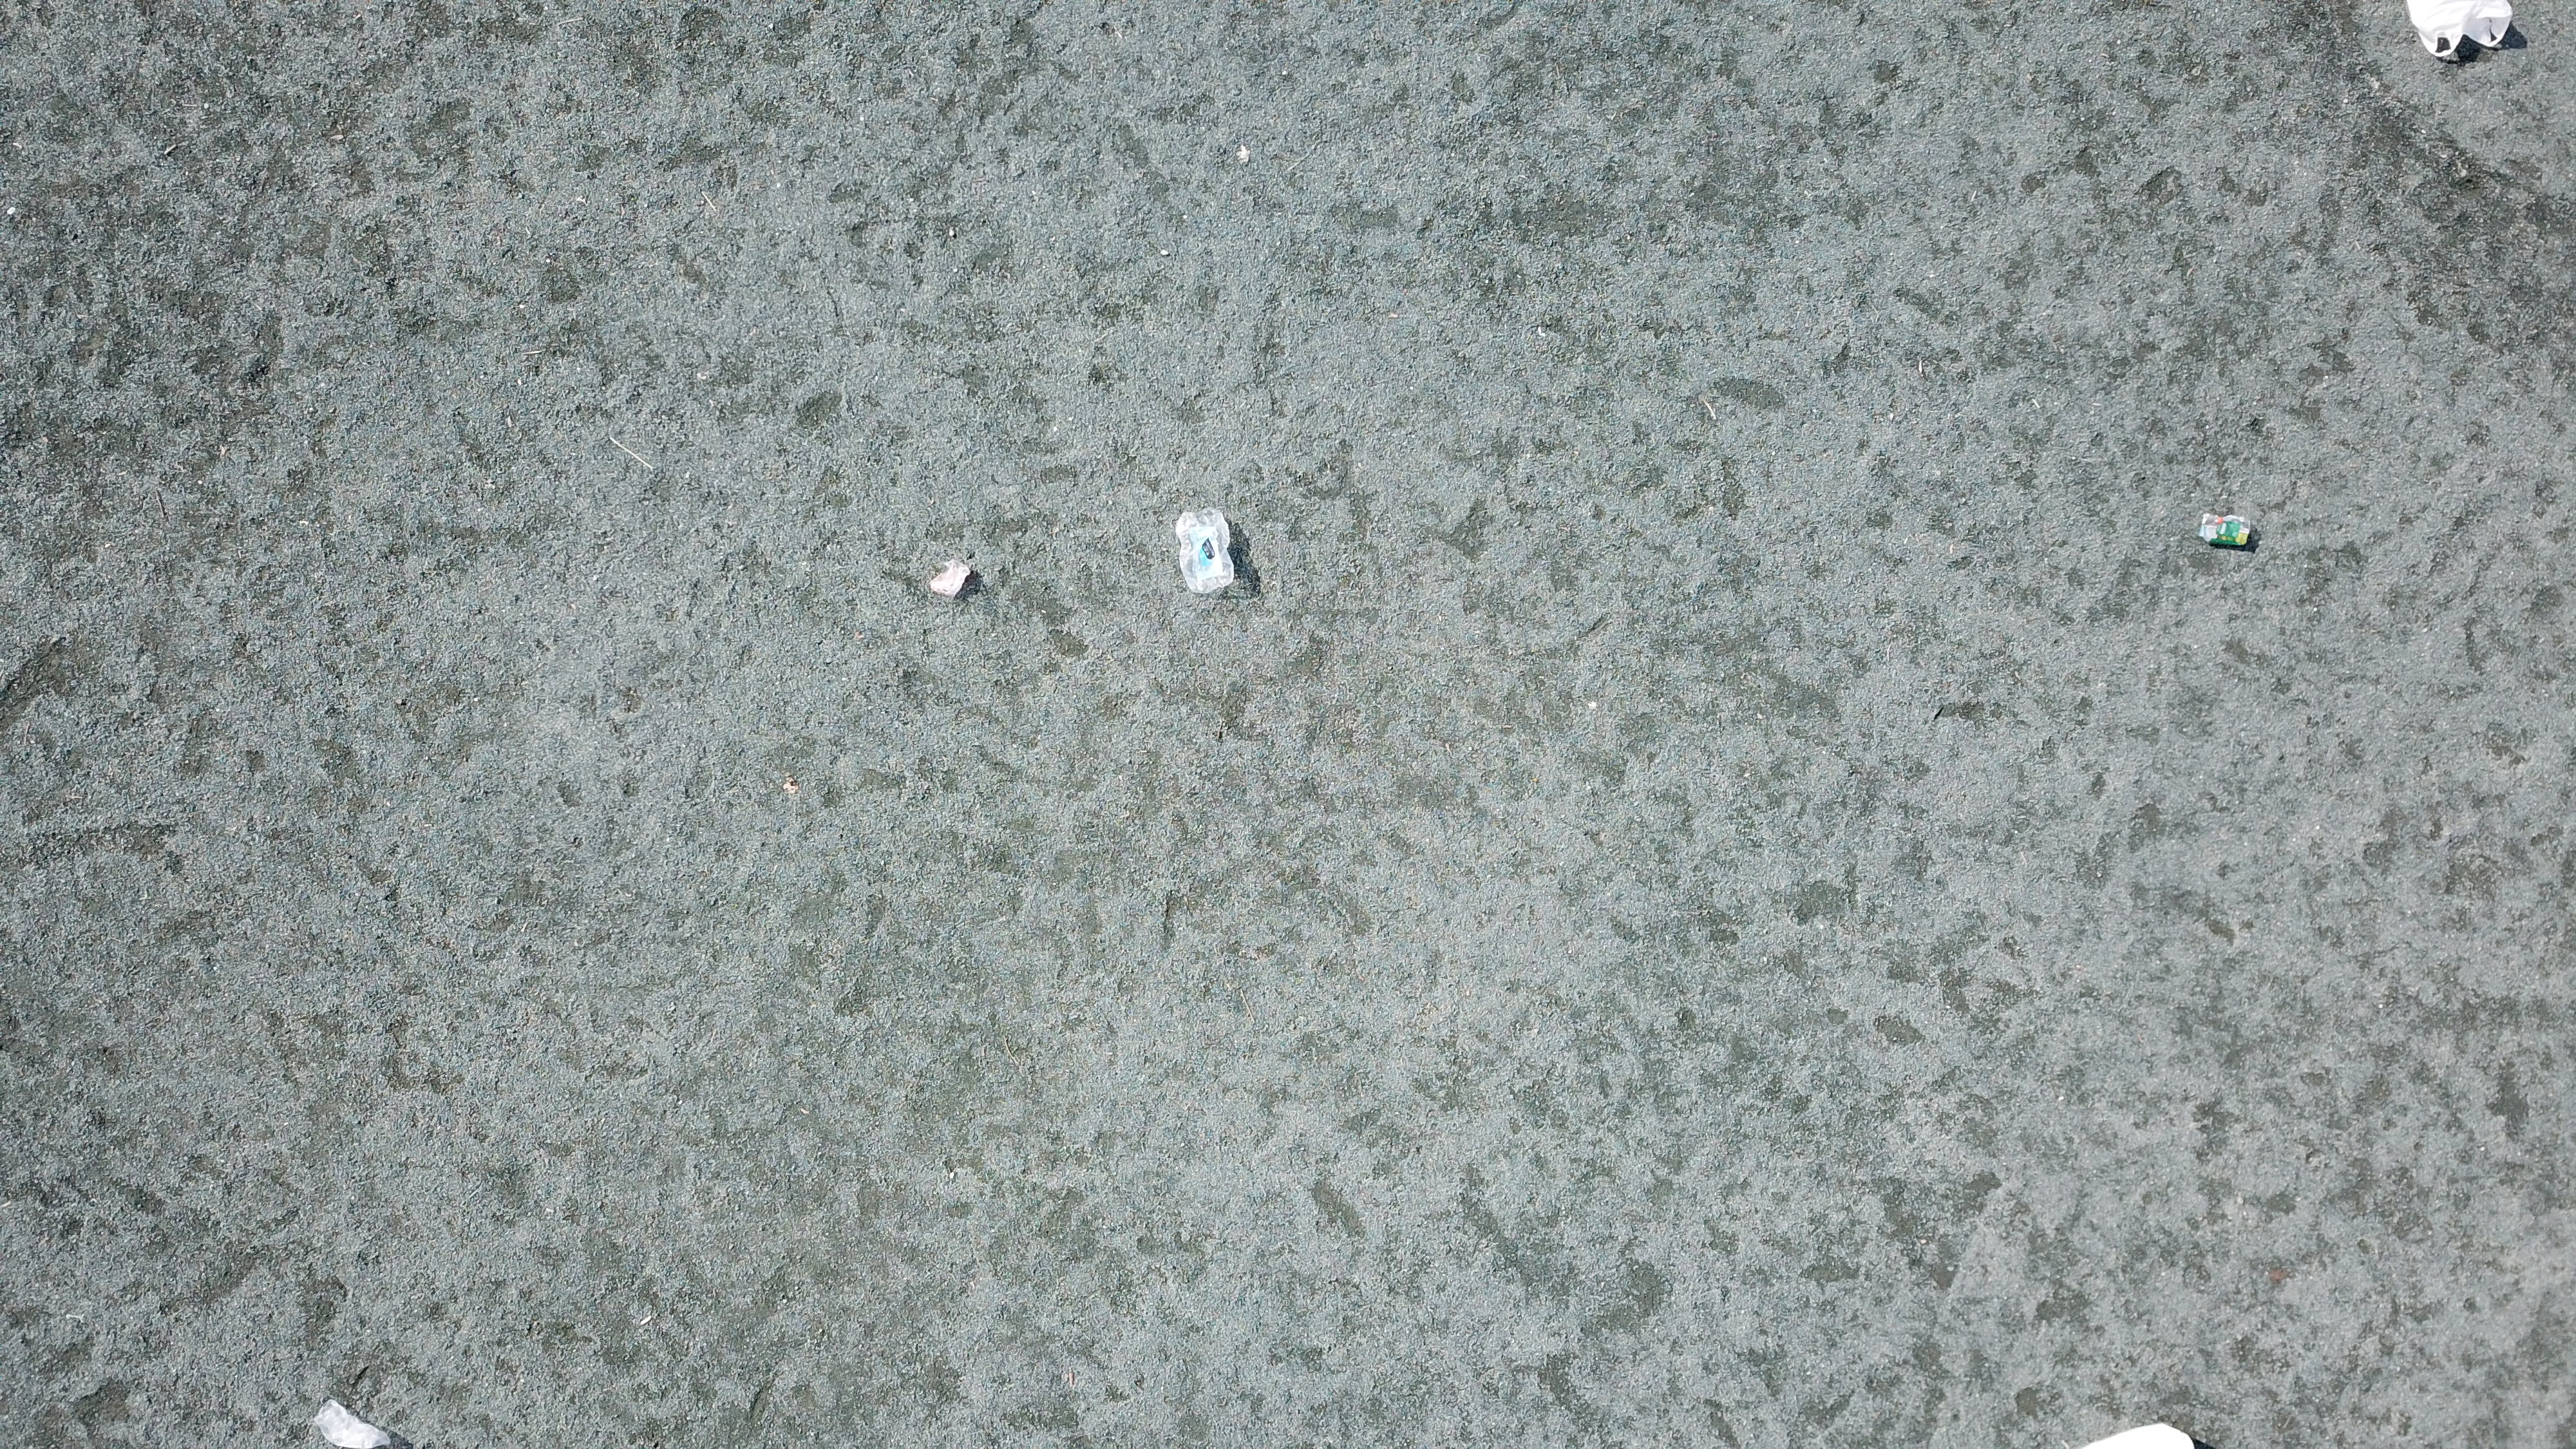Plastic: (2394, 0, 2519, 64), (1164, 502, 1244, 602), (303, 1398, 416, 1449), (2051, 1417, 2226, 1449), (2189, 510, 2265, 554), (922, 556, 978, 602)
